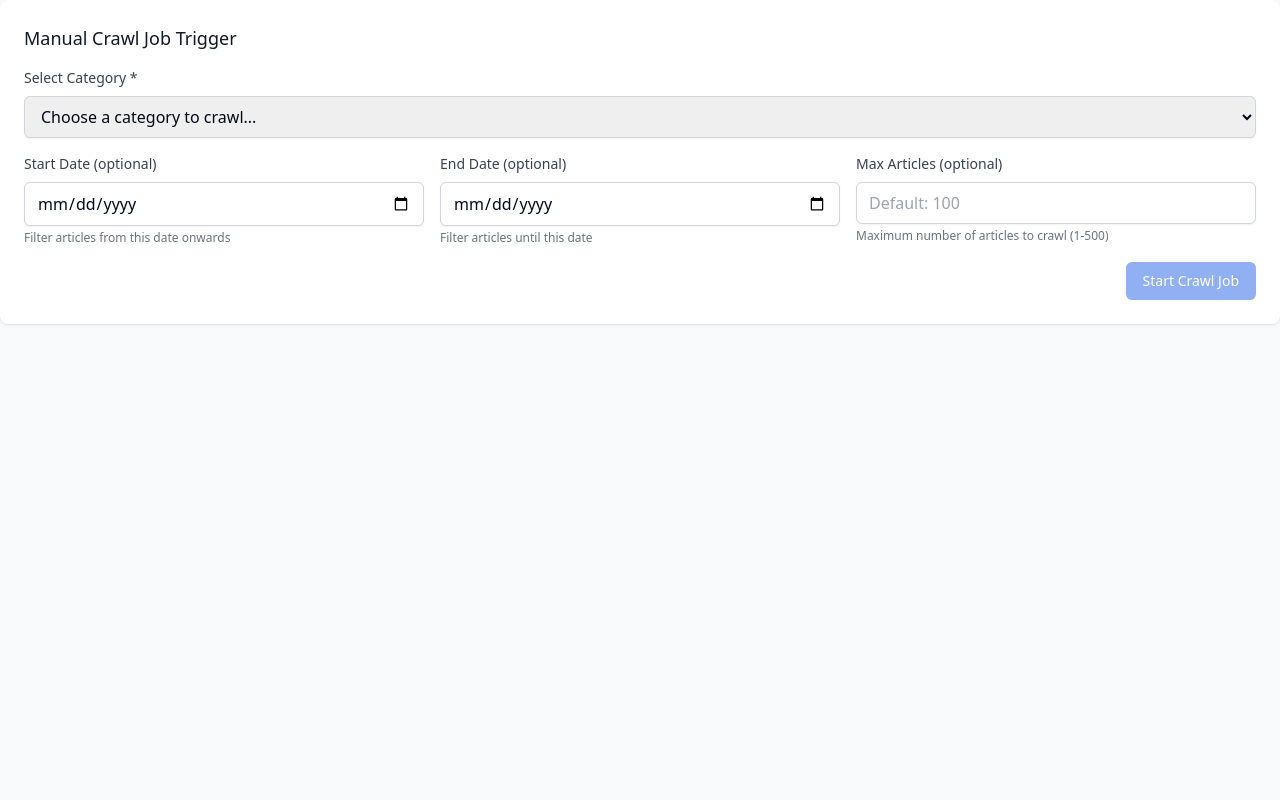
Test case: ManualCrawlTrigger › should handle job creation errors
# Select category and trigger
Select "Technology (2 keywords)" in the dropdown labelled "Select Category *" at (640, 117), box [24,96,1256,138]
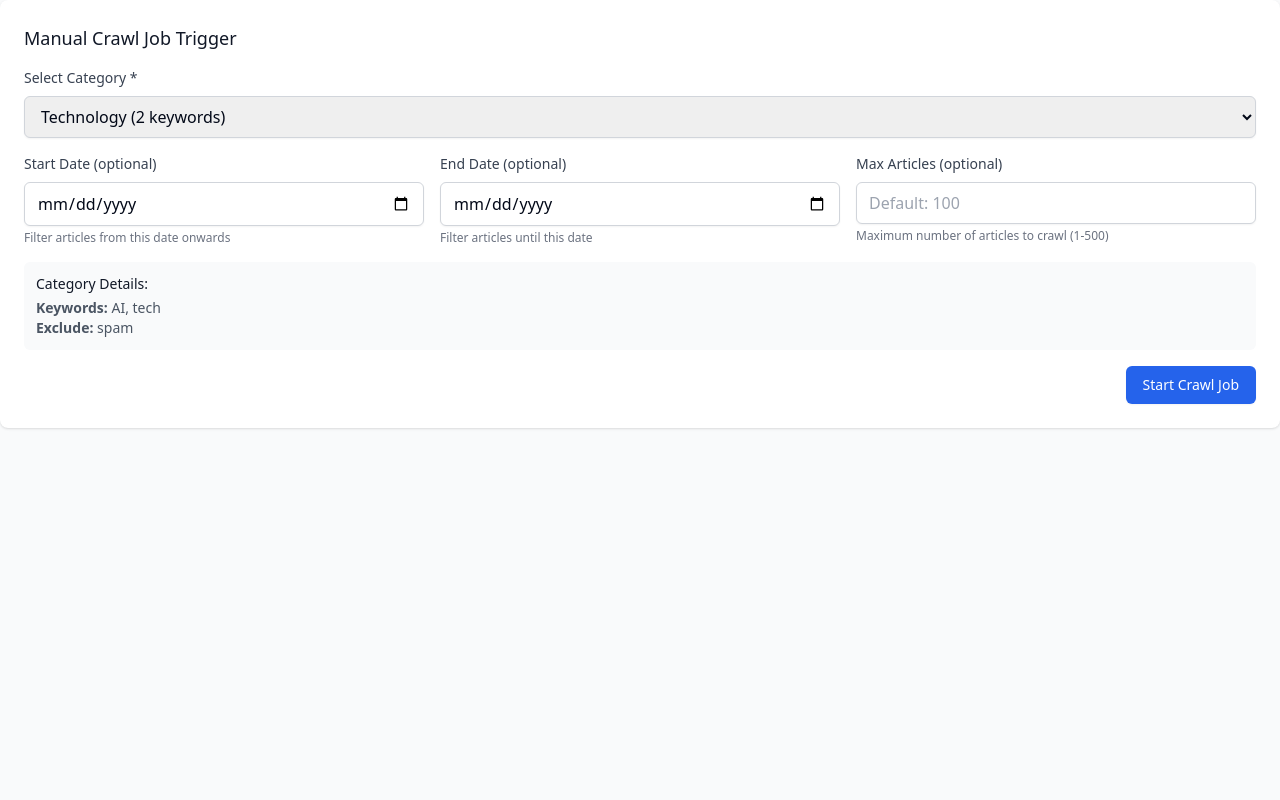
Click the button "Start Crawl Job" at (1191, 385), box [1126,366,1256,404]
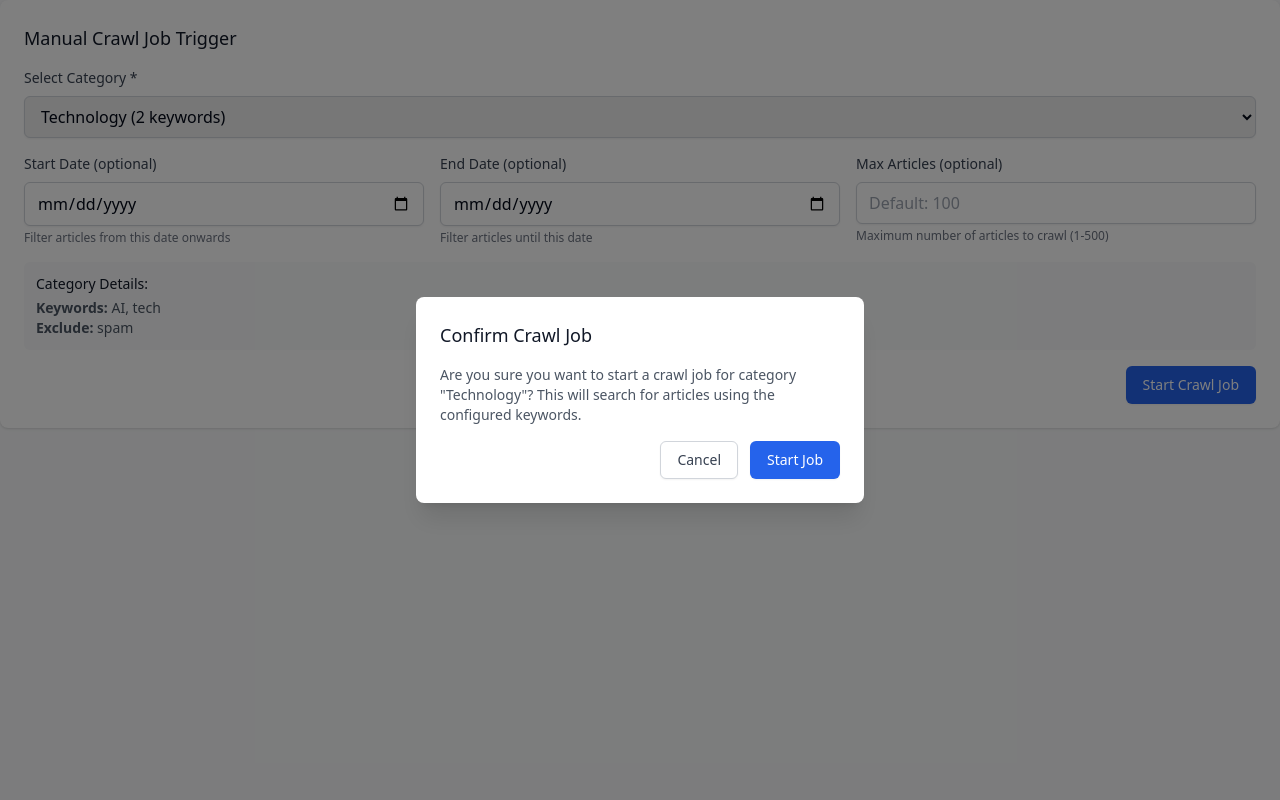
Click the button "Start Job" at (795, 460), box [750,441,840,479]
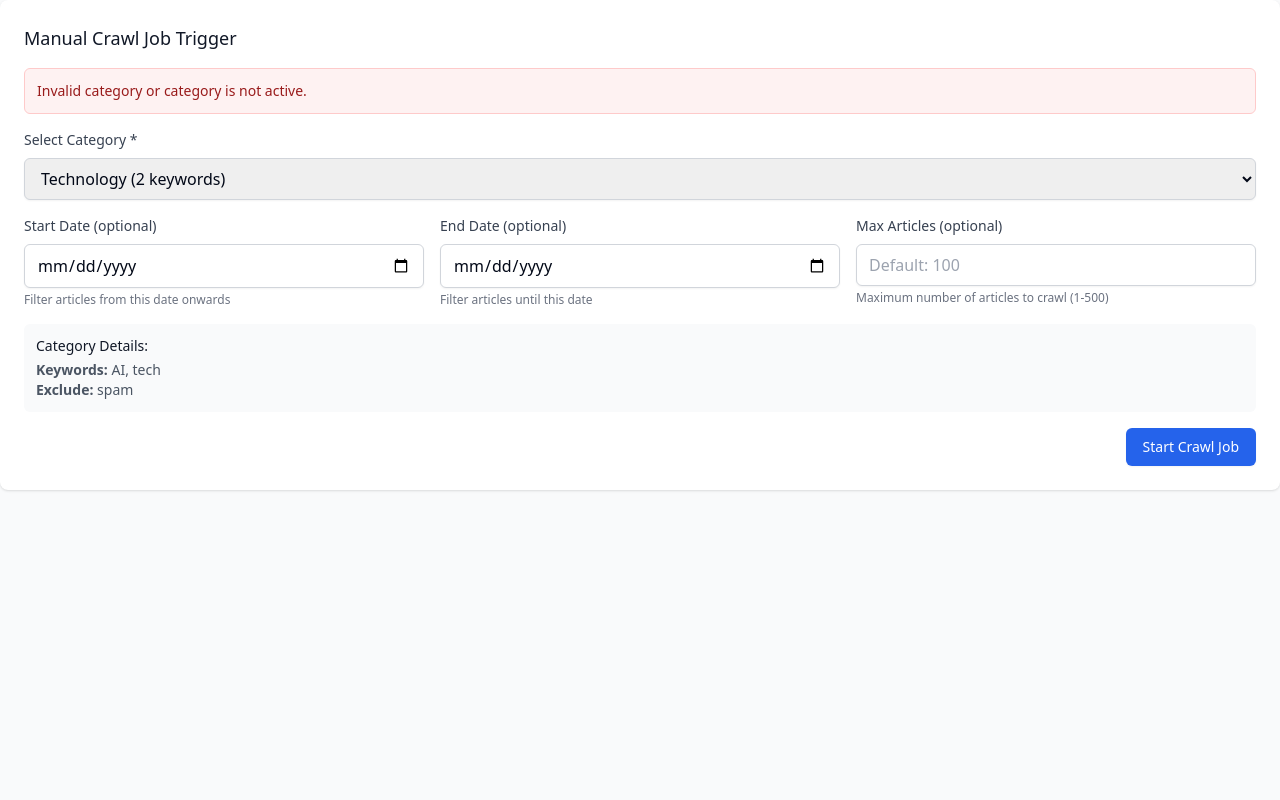
Expected: the text "Invalid category or category is not active." is shown, [37,81,307,100]
